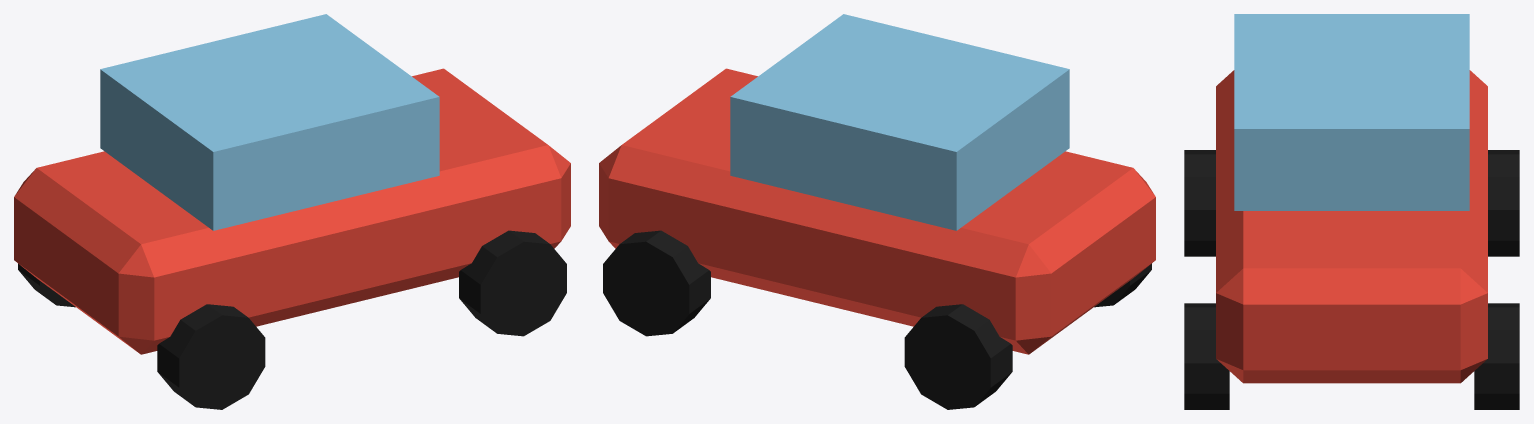
File: toy_car.glb
3 renders of one model, left to right at view 1: azimuth 30°, elevation 25°; view 2: azimuth 150°, elevation 25°; view 3: azimuth 270°, elevation 25°, orthographic. The views are drawn at different scales.
Parts seen in each view (by area): view 1: toy_car; view 2: toy_car; view 3: toy_car.
Boxes of the visible parts, x1,y1,x2,y2 form: toy_car: (14,14,570,409); toy_car: (599,14,1155,409); toy_car: (1184,14,1519,409).
Bounding box in the file's own units: 0.06 × 0.03 × 0.037.
